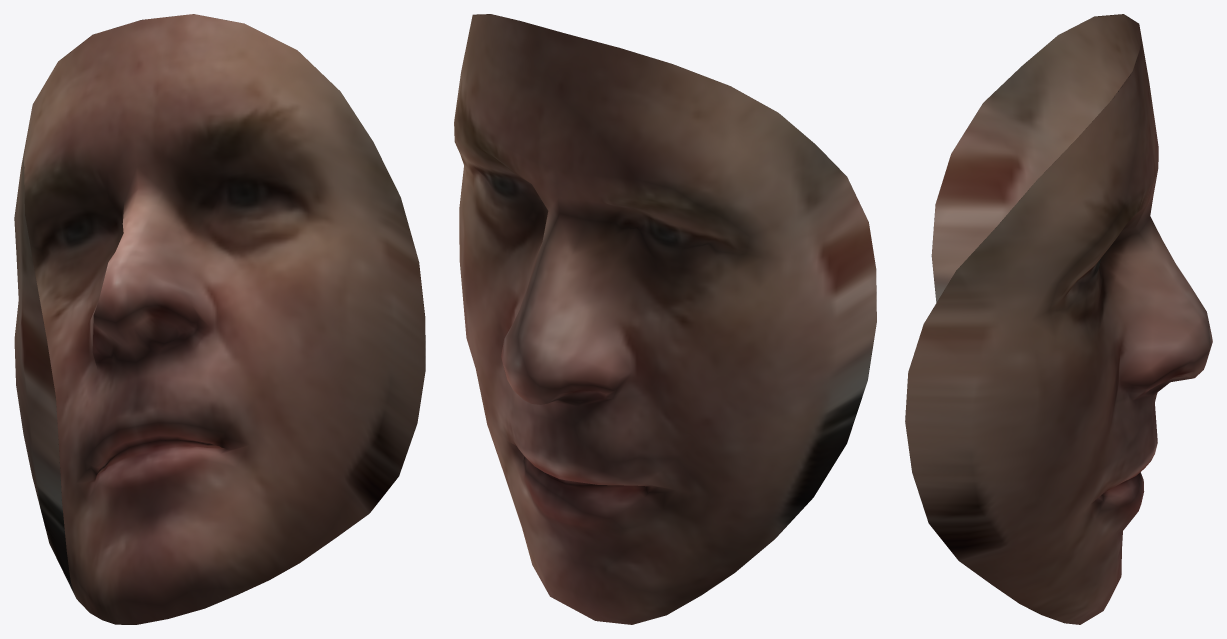
3 views of the same model, side by side, from view 1: azimuth 30°, elevation 25°; view 2: azimuth 150°, elevation 25°; view 3: azimuth 270°, elevation 25° (orthographic). The views are drawn at different scales.
Visible parts, largest first — view 1: custom; view 2: custom; view 3: custom.
Boxes of the visible parts, x1,y1,x2,y2 form: custom: [14, 14, 425, 624]; custom: [454, 14, 876, 624]; custom: [905, 14, 1212, 624].
Size of the model in its own units: 3.69 by 5.67 by 2.78.
Materials: 1 (1 with a texture image).
